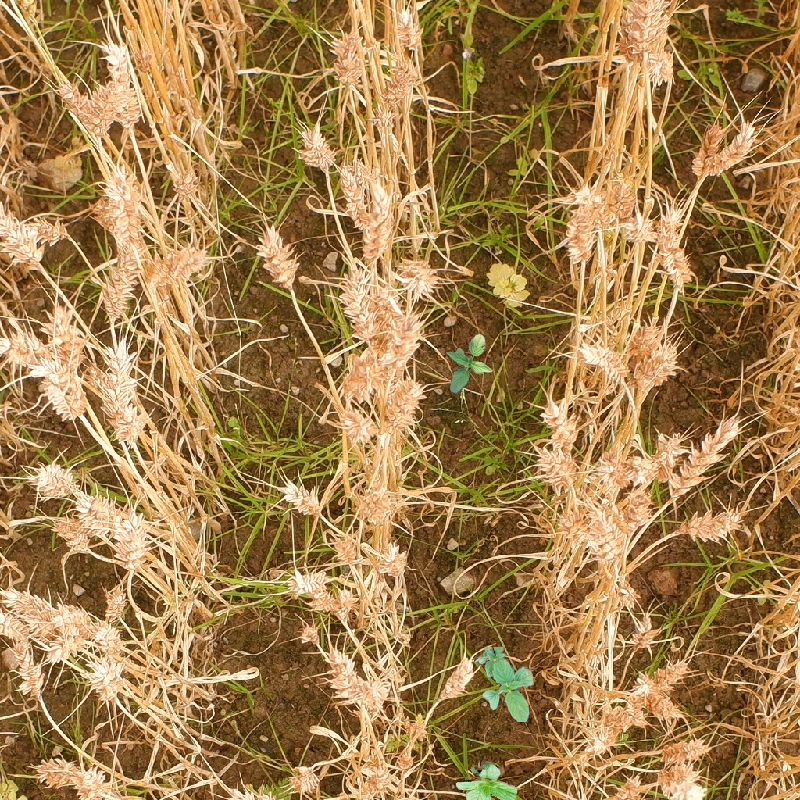spikelet: (669, 415, 742, 496), (337, 163, 396, 253), (586, 506, 632, 614), (101, 338, 147, 442), (1, 585, 88, 637), (102, 166, 150, 258), (689, 117, 758, 179), (321, 644, 381, 714), (36, 754, 119, 800), (631, 1, 677, 84), (102, 40, 145, 126), (561, 183, 607, 263), (352, 275, 402, 347), (38, 358, 89, 422), (380, 374, 424, 443), (654, 211, 693, 288), (254, 224, 300, 288), (55, 77, 105, 134), (84, 654, 131, 706), (577, 335, 628, 382), (682, 505, 743, 544), (47, 309, 86, 367), (75, 488, 120, 537), (329, 31, 367, 89), (1, 218, 44, 269), (339, 352, 382, 403), (162, 241, 210, 286), (355, 482, 404, 526), (580, 708, 623, 758), (637, 338, 680, 387), (112, 514, 150, 569), (634, 679, 682, 722), (540, 396, 579, 448), (536, 443, 580, 489), (295, 122, 336, 171), (396, 253, 439, 299), (31, 459, 79, 500), (279, 477, 325, 518), (99, 272, 135, 322), (285, 565, 332, 602), (391, 2, 425, 51), (11, 652, 44, 698), (650, 427, 686, 468), (338, 407, 372, 447), (330, 526, 364, 566), (285, 761, 321, 798), (225, 780, 294, 799), (664, 773, 710, 800), (91, 620, 125, 655), (630, 450, 662, 487), (42, 634, 77, 667), (609, 775, 646, 800)
weed: (474, 647, 534, 722), (453, 756, 522, 800), (446, 334, 493, 393), (484, 265, 531, 307)
